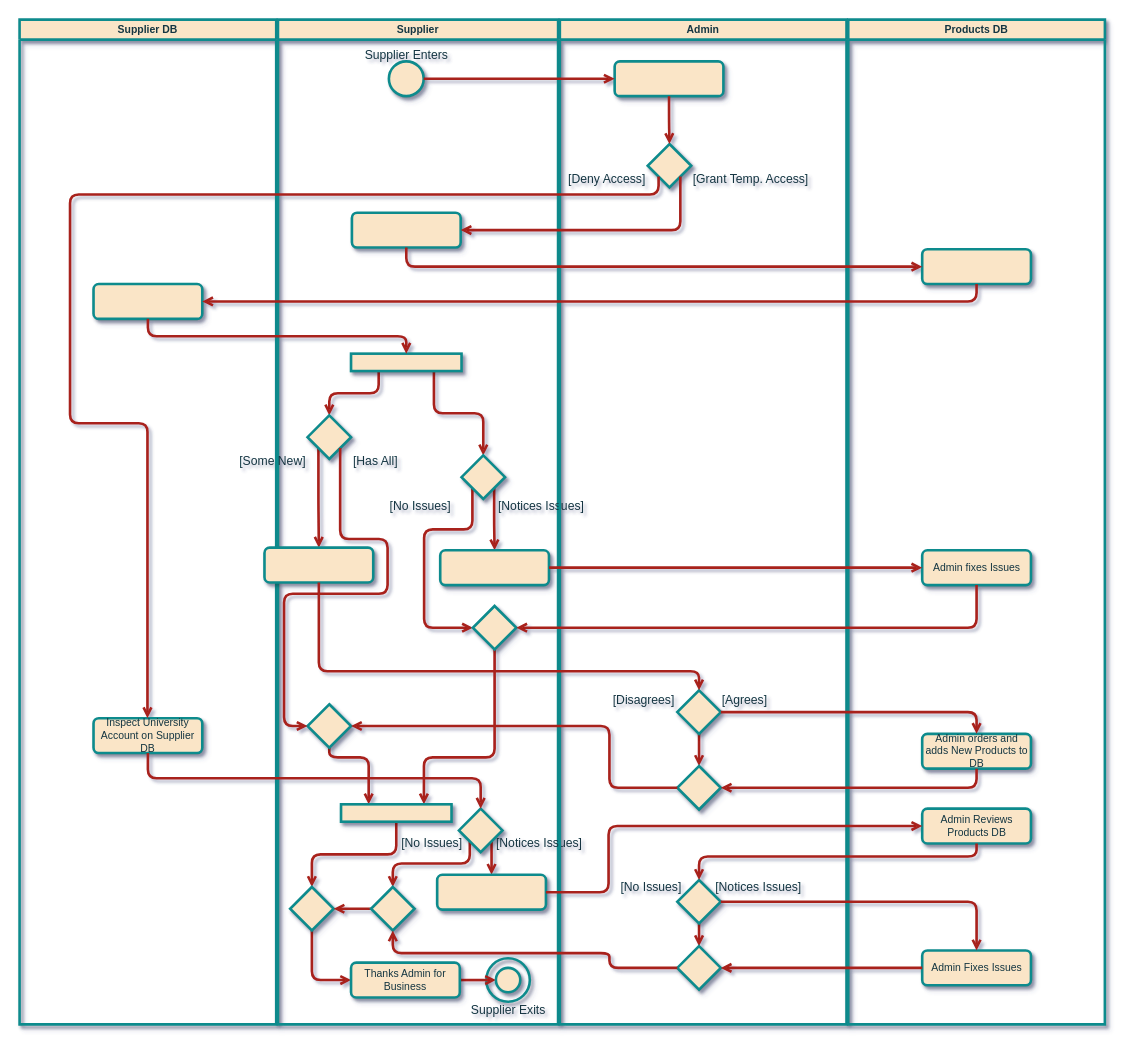
Image size: 1132x1052. Some labels were removed from this diagram. The centre of each missing label's shape, as x and y in pixels:
Compare with Supplier DB: the point at 148,302
Connect to Products DB with Temp. Creds.: the point at 407,230
Consult Admin for Products DB access: the point at 669,79
Inform Admin of Issues: the point at 495,568
Inform Admin they should review their Products DB: the point at 492,893
Reccomends New Products to Admin: the point at 319,565
View Products DB: the point at 977,267
